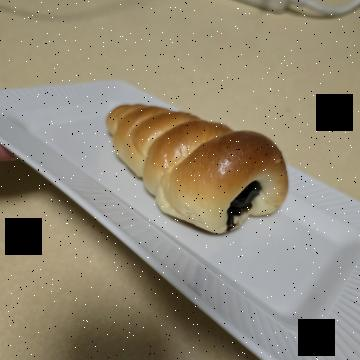cream horn: (95, 60, 248, 266)
